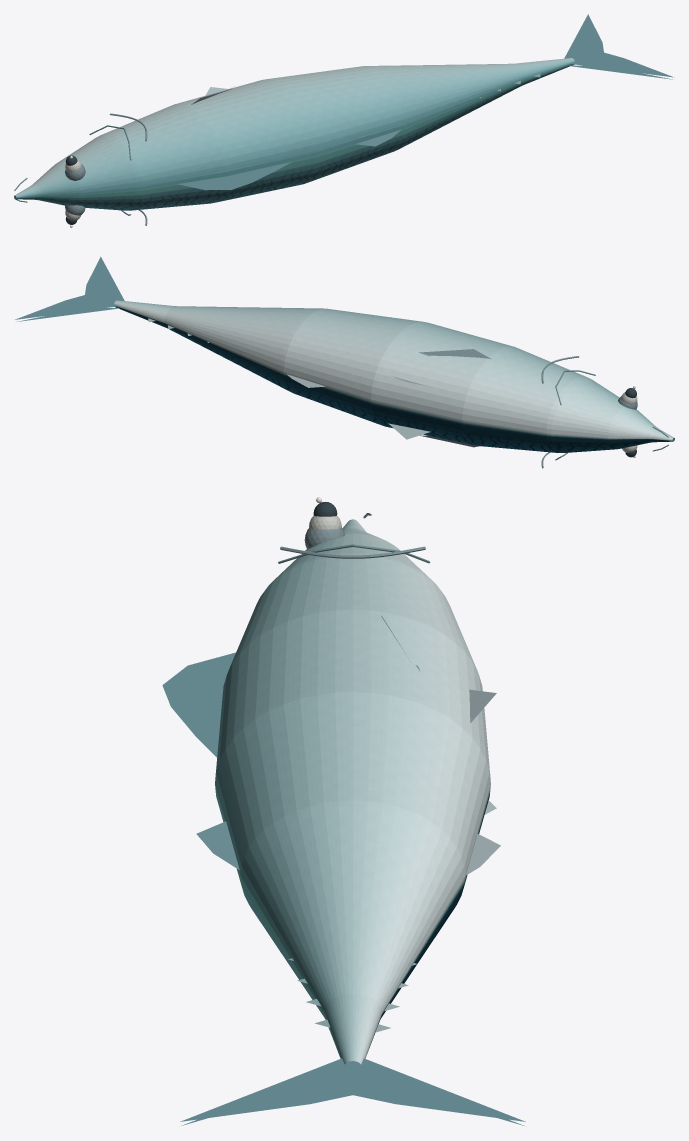
The model's file is Ikan_Kembung.glb.
3 views of the same model, one above another, from view 1: azimuth 30°, elevation 25°; view 2: azimuth 150°, elevation 25°; view 3: azimuth 270°, elevation 25° (orthographic). The views are drawn at different scales.
Parts seen in each view (by area): view 1: fish; view 2: fish; view 3: fish.
Part boxes in pixels (x1,y1,x2,y2): fish: [14, 14, 674, 227]; fish: [15, 256, 674, 468]; fish: [162, 497, 525, 1125].
Bounding box in the file's own units: 3.36 × 0.512 × 0.86.
Materials: 1 (1 with a texture image).
